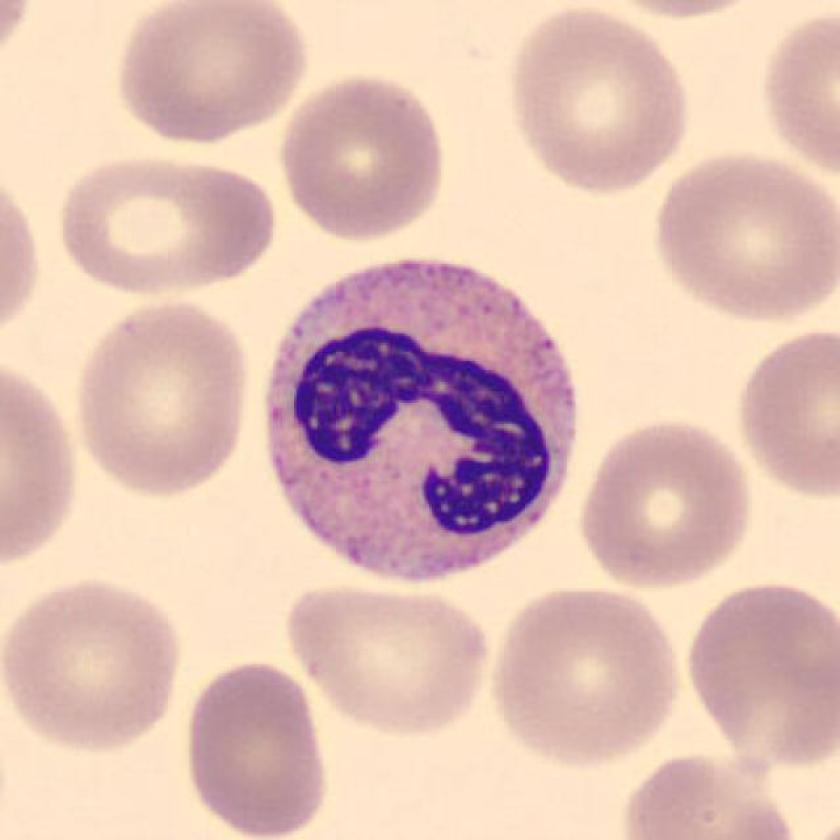neutrophil: (266, 262, 577, 577)
